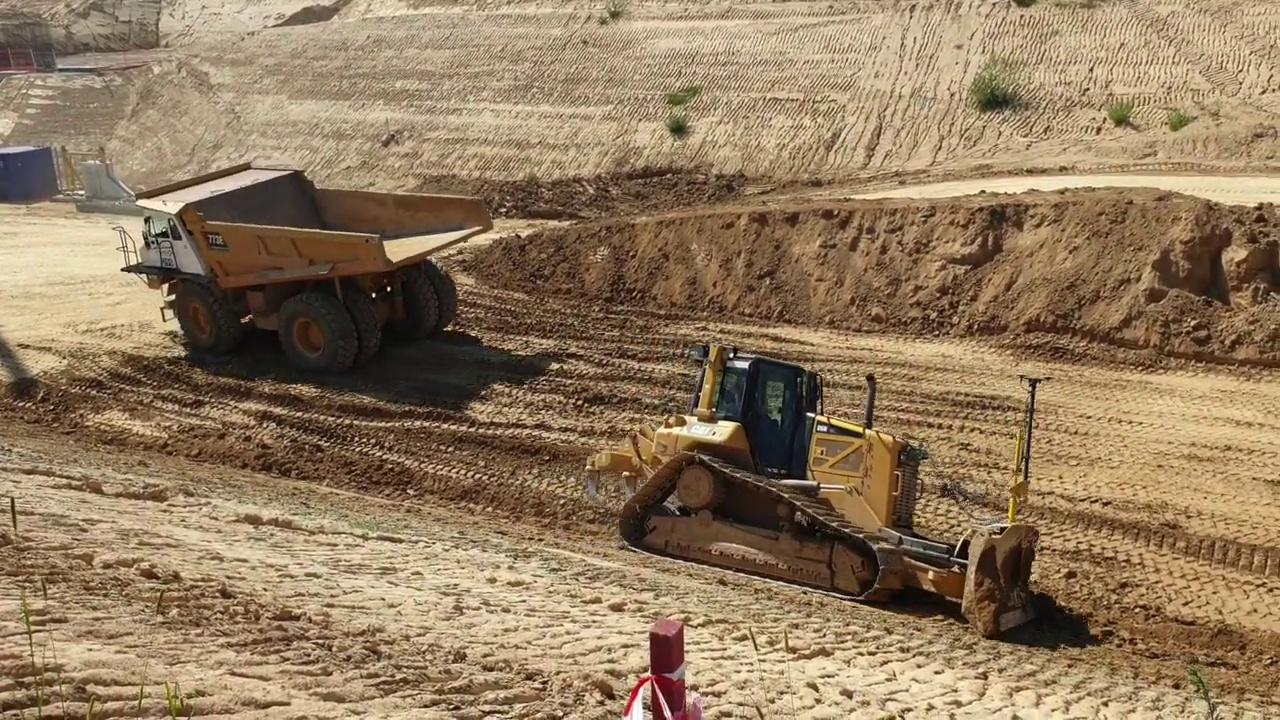bulldozer: (585, 337, 1054, 638)
truck: (111, 158, 501, 382)
